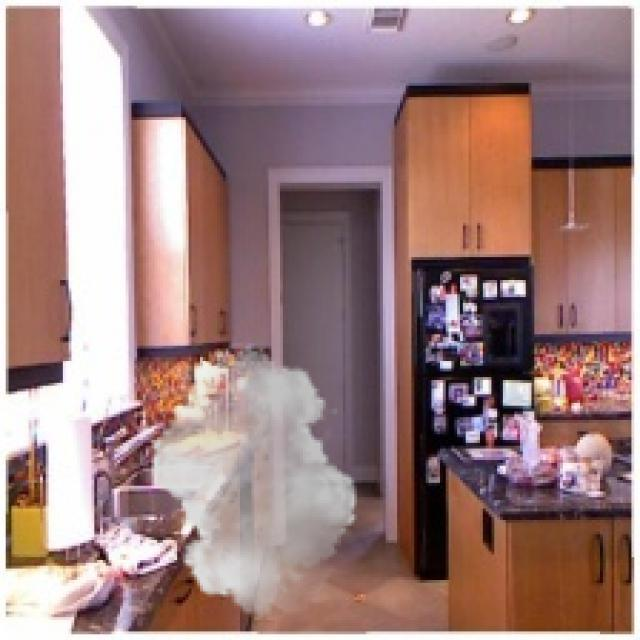Smoke: (143, 343, 366, 620)
